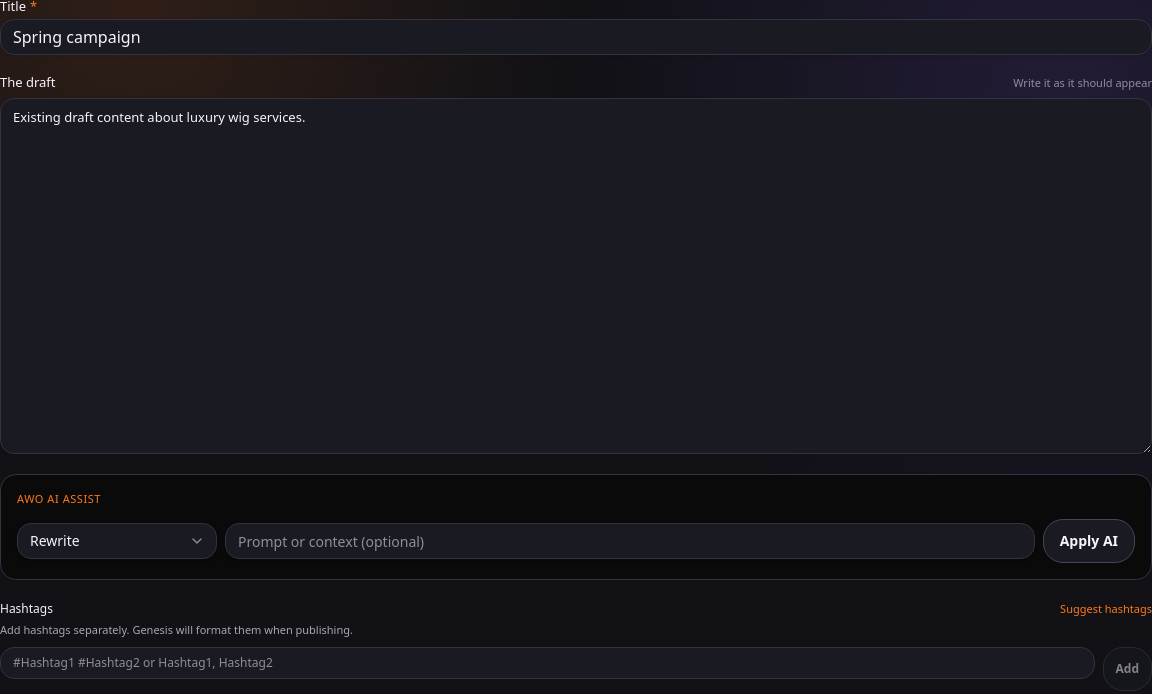
AWO AI Assist — 12 component interaction tests › 4 — clearing a non-empty editor transitions action back to 'generate'
Check: the dropdown named "ai action selection" shows "Rewrite", box [17,523,217,559]
Clear the text box with id "body" at (576, 276), box [0,98,1151,454]
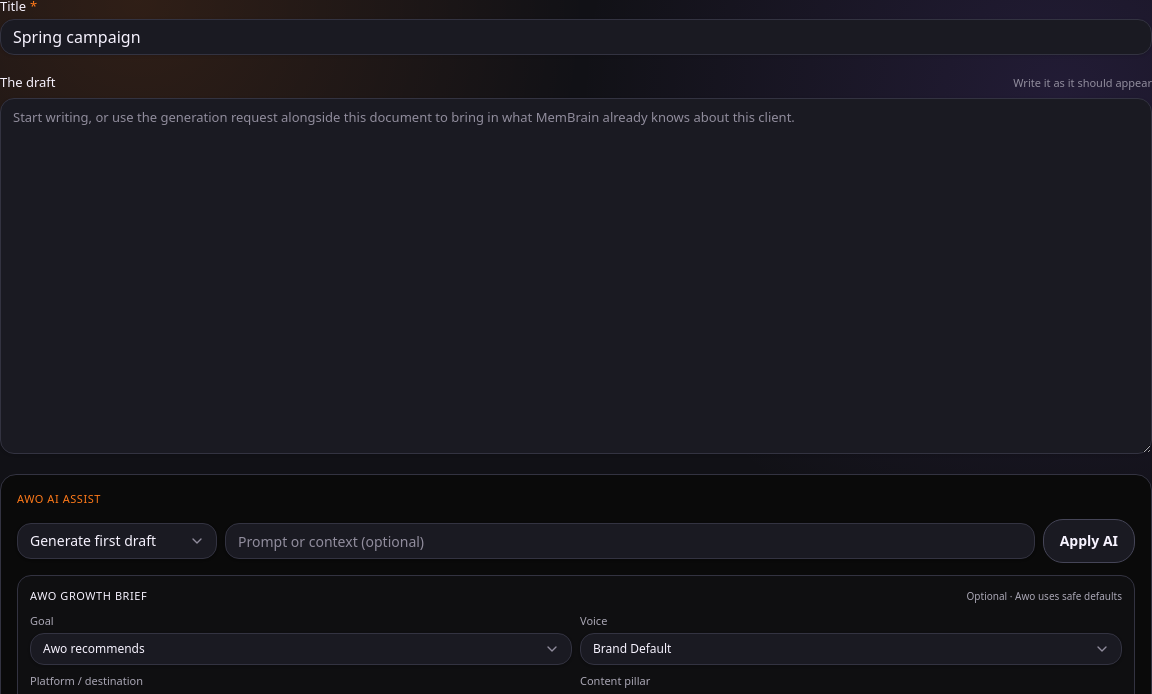
Check: the dropdown named "ai action selection" shows "Generate first draft", box [17,523,217,559]
